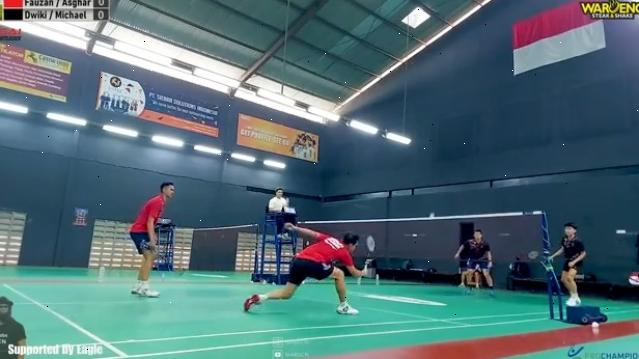Shuttlecock: (430, 214, 436, 220)
